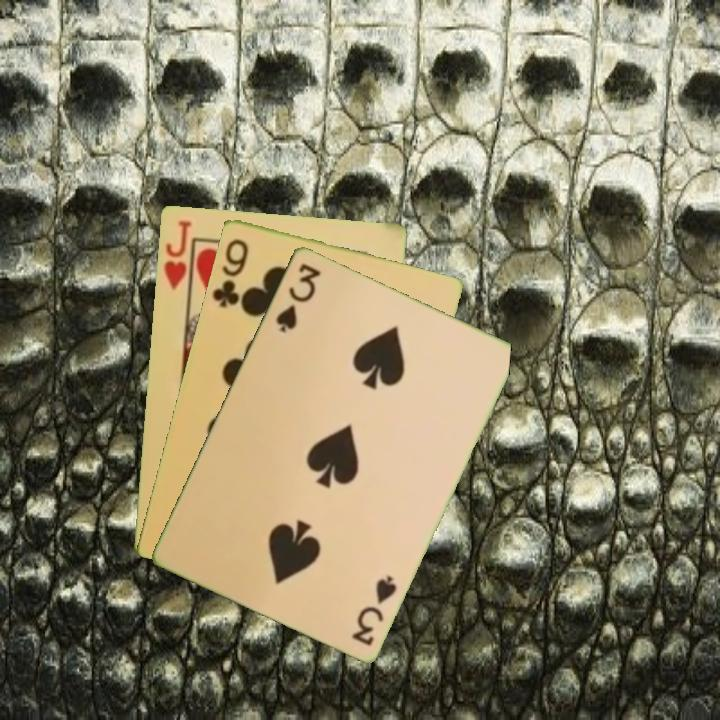3s: (271, 259, 324, 335), (348, 571, 400, 648)
9c: (208, 234, 251, 310)
Jh: (160, 216, 194, 293)
